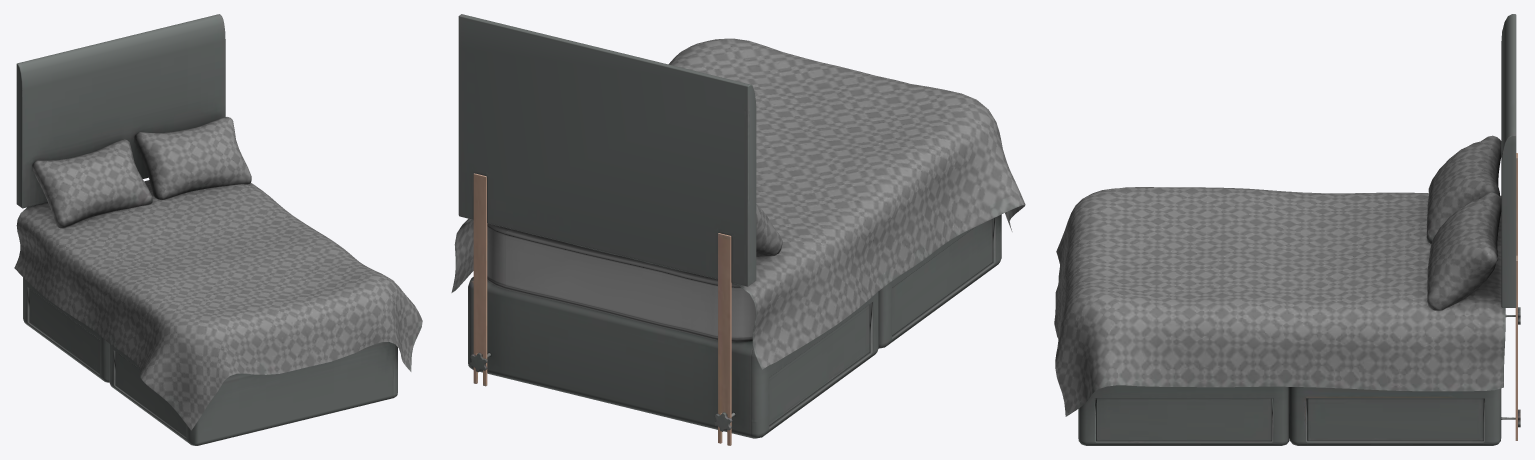
Rendered from bed_double_branscombe.glb.
The picture shows the model from 3 angles, left to right: view 1: azimuth 30°, elevation 25°; view 2: azimuth 150°, elevation 25°; view 3: azimuth 270°, elevation 25°; orthographic projection. The views are drawn at different scales.
Parts seen in each view (by area): view 1: defaultMaterial; view 2: defaultMaterial; view 3: defaultMaterial.
Boxes of the visible parts, x1,y1,x2,y2 form: defaultMaterial: [14, 14, 422, 445]; defaultMaterial: [451, 14, 1025, 445]; defaultMaterial: [1054, 14, 1520, 445].
Size of the model in its own units: 328 by 295 by 399.
Materials: 1 (1 with a texture image).
